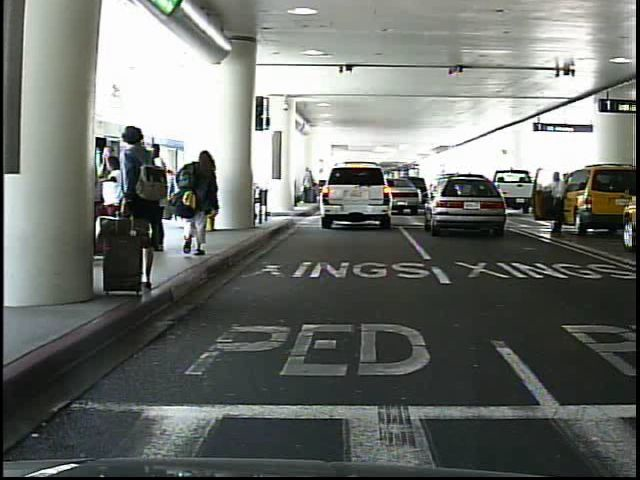person: (105, 119, 158, 292), (181, 146, 223, 263), (142, 143, 175, 260), (172, 158, 200, 233), (545, 174, 567, 235)
